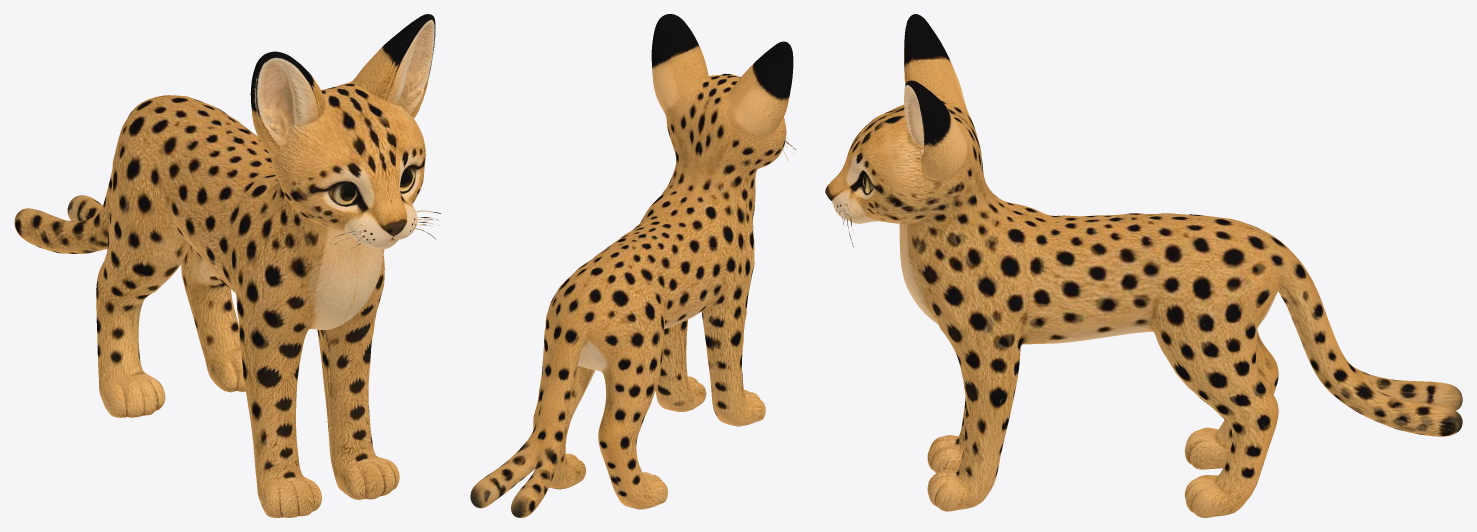
The model's file is meshy-serval.glb.
The picture shows the model from 3 angles, left to right: view 1: azimuth 30°, elevation 25°; view 2: azimuth 150°, elevation 25°; view 3: azimuth 270°, elevation 25°; orthographic projection. The views are drawn at different scales.
Parts seen in each view (by area): view 1: Mesh_0; view 2: Mesh_0; view 3: Mesh_0.
Boxes of the visible parts, <box> form: Mesh_0: <box>14,14,440,517</box>; Mesh_0: <box>470,14,796,517</box>; Mesh_0: <box>825,14,1462,517</box>.
Bounding box in the file's own units: 0.5628 × 1.44 × 1.9.
Materials: 1 (1 with a texture image).
